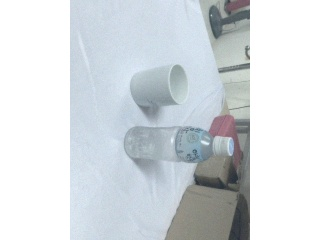bottle: (124, 126, 234, 163)
box: (159, 185, 249, 240), (195, 115, 242, 189)
cup: (130, 64, 189, 107)
